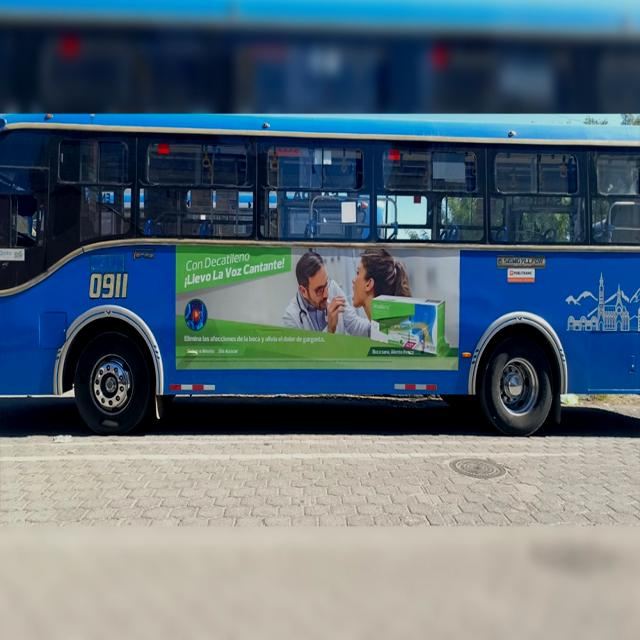BUS: (0, 120, 640, 397)
